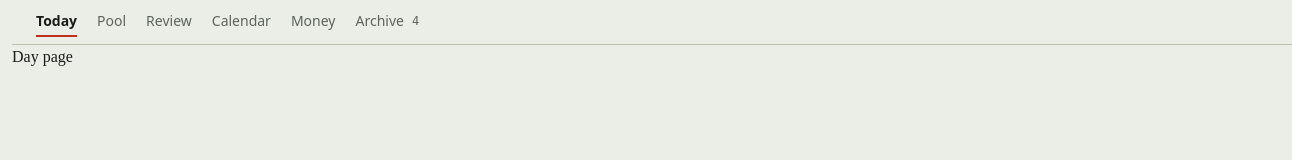
Test: ViewNav › offers the weekly review from every surface
Click the link "Review" at [169, 22], box 146,7 -> 192,37
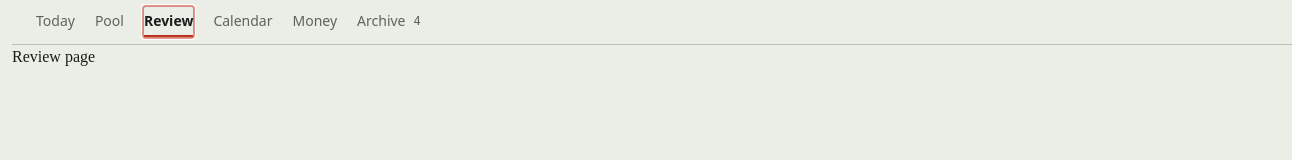
Expected: the text "Review page" is shown, 12,48 -> 95,65
